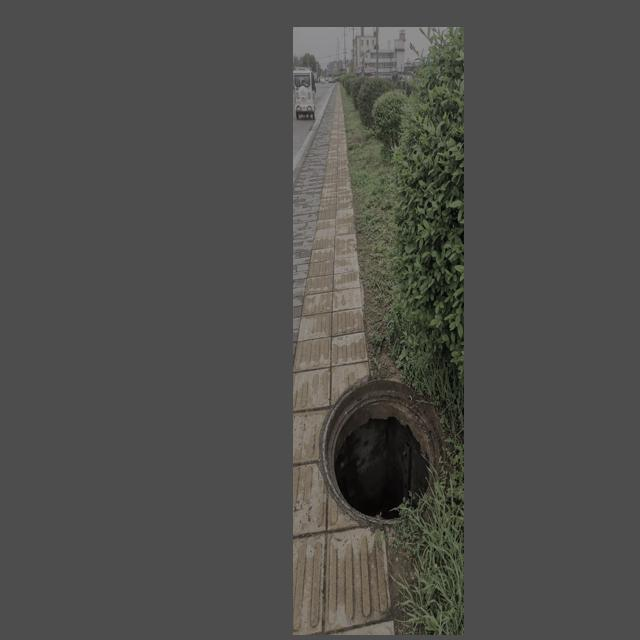lose: (320, 377, 443, 525)
